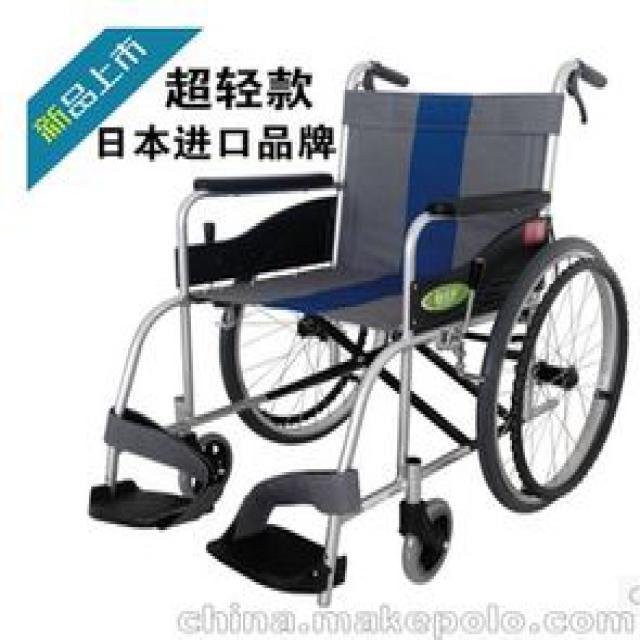wheelchair: (82, 58, 627, 594)
